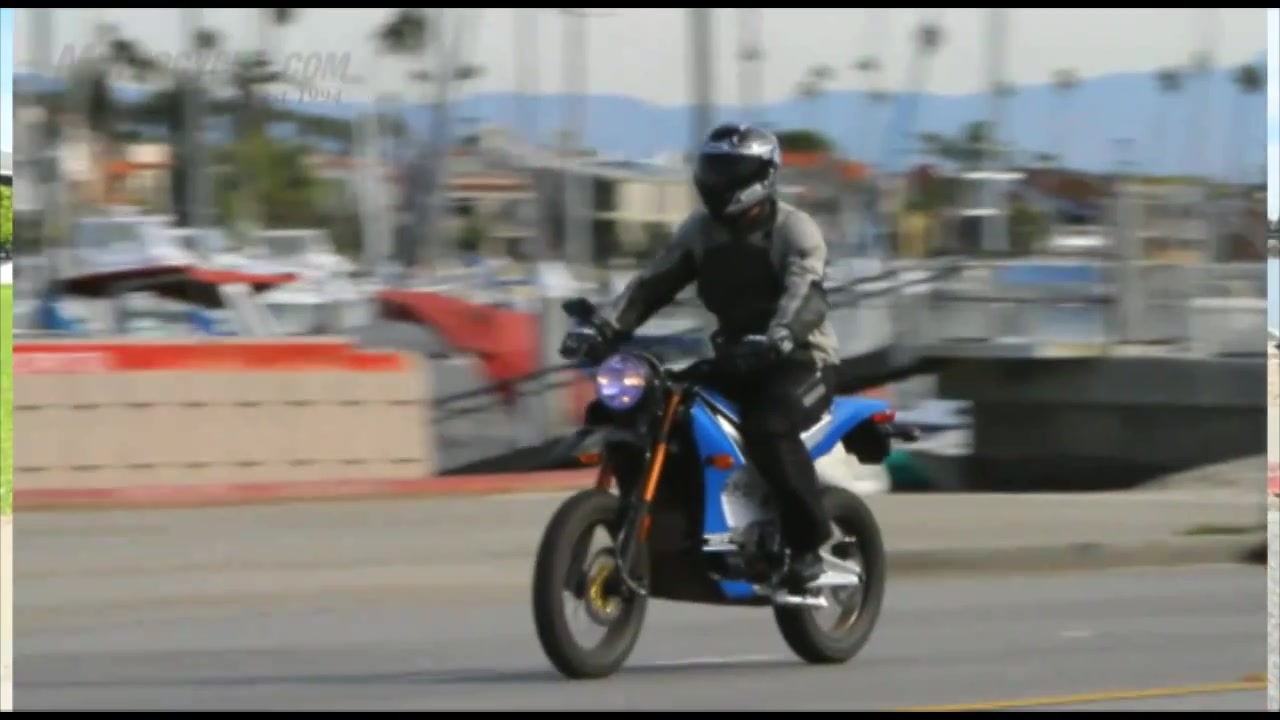motorbike: (532, 296, 924, 685)
